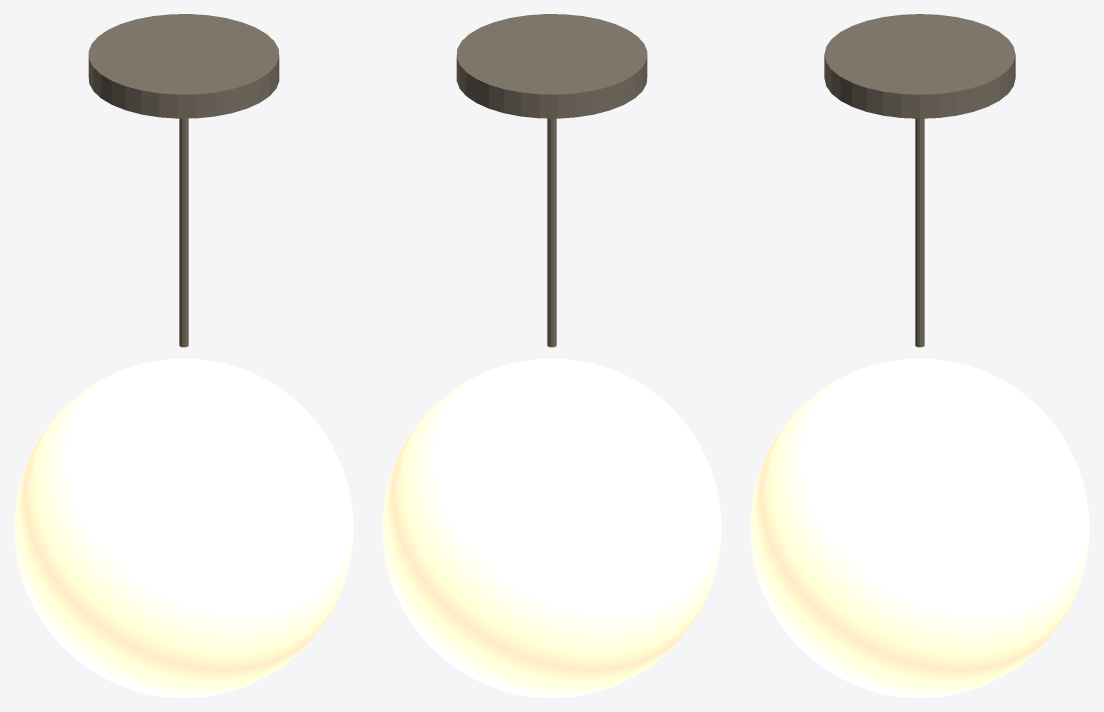
Rendered from opal-globe-pendant-v2.glb.
The picture shows the model from 3 angles, left to right: view 1: azimuth 30°, elevation 25°; view 2: azimuth 150°, elevation 25°; view 3: azimuth 270°, elevation 25°; orthographic projection.
Parts seen in each view (by area): view 1: room03-opal-globe-pendant; view 2: room03-opal-globe-pendant; view 3: room03-opal-globe-pendant.
Part boxes in pixels (x1,y1,x2,y2): room03-opal-globe-pendant: (14,14,353,697); room03-opal-globe-pendant: (382,14,721,697); room03-opal-globe-pendant: (750,14,1089,697).
Bounding box in the file's own units: 0.32 × 0.6525 × 0.32.
